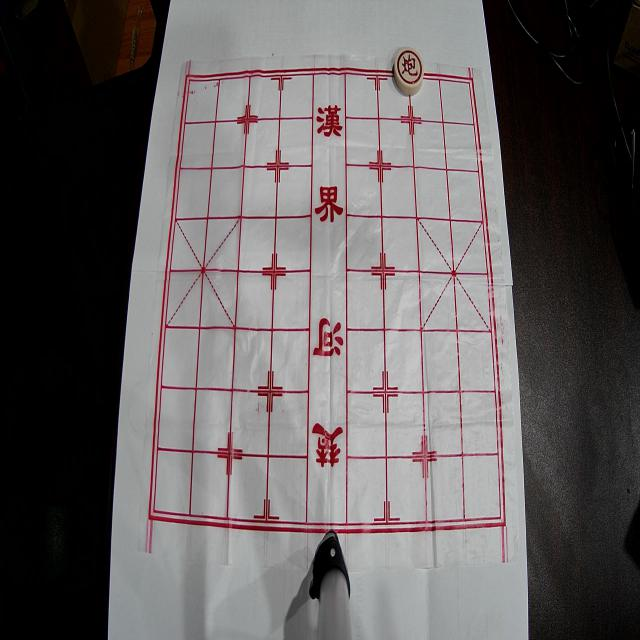red-cannon: (394, 47, 424, 95)
